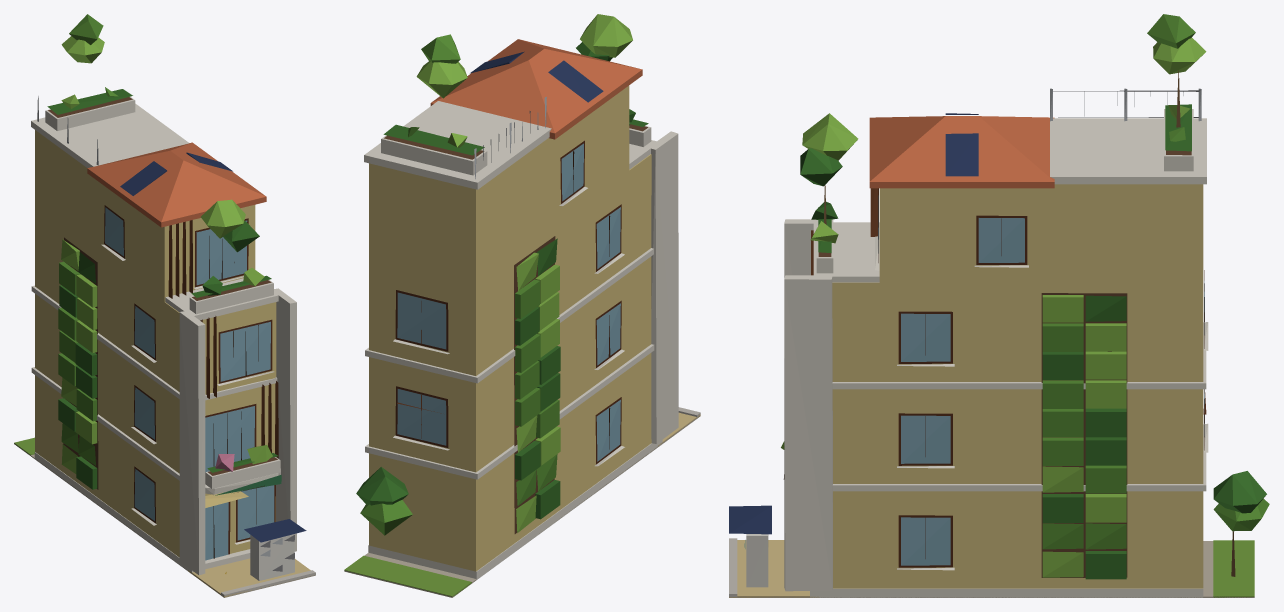
Rendered from bay2_one.glb.
The picture shows the model from 3 angles, left to right: view 1: azimuth 30°, elevation 25°; view 2: azimuth 150°, elevation 25°; view 3: azimuth 270°, elevation 25°; orthographic projection. The views are drawn at different scales.
Visible parts, largest first — view 1: body; view 2: body; view 3: body.
Part boxes in pixels (x1,y1,x2,y2): body: (14, 14, 315, 597); body: (344, 14, 700, 597); body: (729, 14, 1269, 597).
Size of the model in its own units: 4.62 by 18.43 by 16.36.
